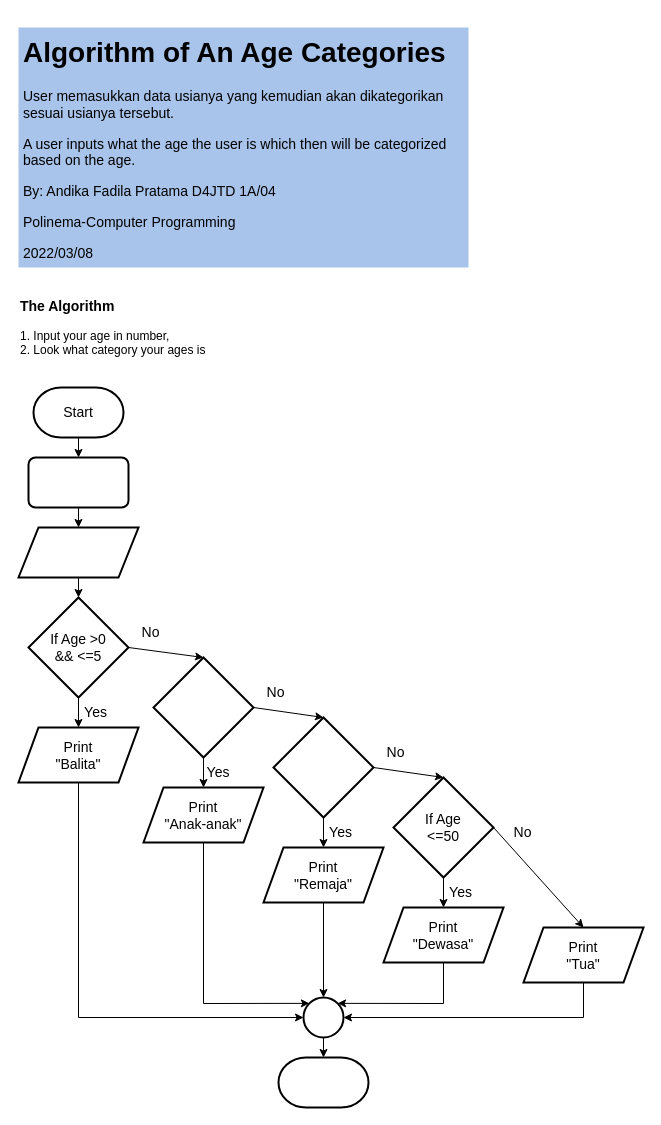
Image size: 661x1125. Some labels were removed from this diagram. The centre of each missing label's shape, as x and y in pixels:
Age = Integer: point (78, 482)
Finish: point (323, 1082)
If Age <=10: point (203, 707)
If Age <=23: point (323, 767)
Input Age: point (78, 552)
